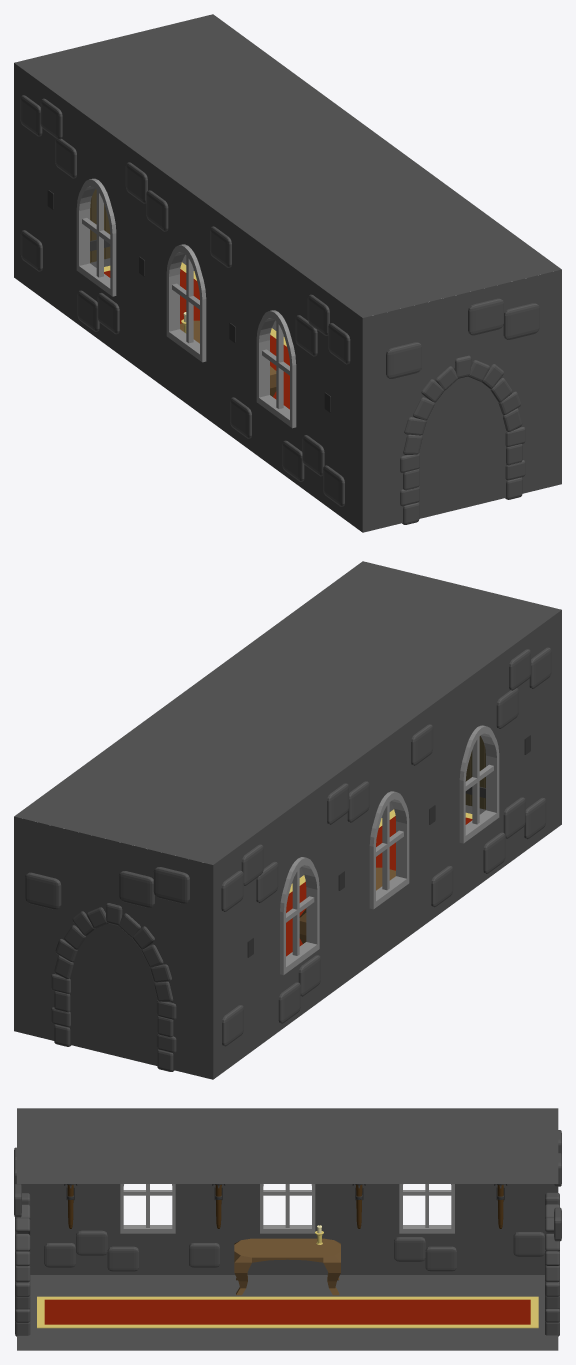
Rendered from project1map.fbx.
3 renders of one model, top to bottom at view 1: azimuth 30°, elevation 25°; view 2: azimuth 150°, elevation 25°; view 3: azimuth 270°, elevation 25°, orthographic. The views are drawn at different scales.
Visible parts, largest first — view 1: Plane, Cube.064, Cube.007, Cube.006, Cube.009, Cube, Cube.026, Cube.025, Cube.027, Cube.012, Cube.010, Cube.016 (+14 smaller); view 2: Plane, Cube.002, Cube.009, Cube.006, Cube.007, Cube, Cube.028, Cube.030, Cube.029, Cube.021, Cube.020, Cube.055 (+14 smaller); view 3: Plane, Cube, Cube.004, Cube.064, Cube.002, Cube.006, Cube.007, Cube.009, Cube.019, Cube.020, Cube.015, Cube.014 (+6 smaller).
Part boxes in pixels (box(x1,y1,x2,y2)): Plane: box(14, 14, 561, 532); Cube.064: box(400, 355, 525, 524); Cube.007: box(76, 178, 116, 296); Cube.006: box(166, 244, 206, 362); Cube.009: box(256, 310, 296, 428); Cube: box(104, 262, 289, 409); Cube.026: box(503, 303, 539, 339); Cube.025: box(468, 298, 503, 335); Cube.027: box(386, 342, 421, 378); Cube.012: box(146, 190, 168, 231); Cube.010: box(40, 98, 62, 139); Cube.016: box(20, 230, 42, 271); Plane: box(14, 561, 561, 1079); Cube.002: box(51, 903, 176, 1071); Cube.009: box(459, 725, 499, 843); Cube.006: box(369, 791, 409, 909); Cube.007: box(280, 857, 319, 974); Cube: box(286, 809, 472, 956); Cube.028: box(153, 867, 189, 903); Cube.030: box(25, 872, 61, 909); Cube.029: box(118, 871, 154, 907); Cube.021: box(411, 724, 433, 765); Cube.020: box(483, 832, 505, 873); Cube.055: box(221, 870, 243, 911); Plane: box(17, 1108, 558, 1350); Cube: box(37, 1296, 538, 1328); Cube.004: box(234, 1238, 340, 1295); Cube.064: box(15, 1193, 30, 1336); Cube.002: box(545, 1192, 559, 1336); Cube.006: box(260, 1184, 315, 1233); Cube.007: box(399, 1184, 454, 1233); Cube.009: box(120, 1184, 175, 1233); Cube.019: box(76, 1230, 107, 1255); Cube.020: box(107, 1246, 138, 1271); Cube.015: box(425, 1246, 456, 1271); Cube.014: box(394, 1237, 425, 1261).
Size of the model in its own units: 851 by 871 by 2561.
